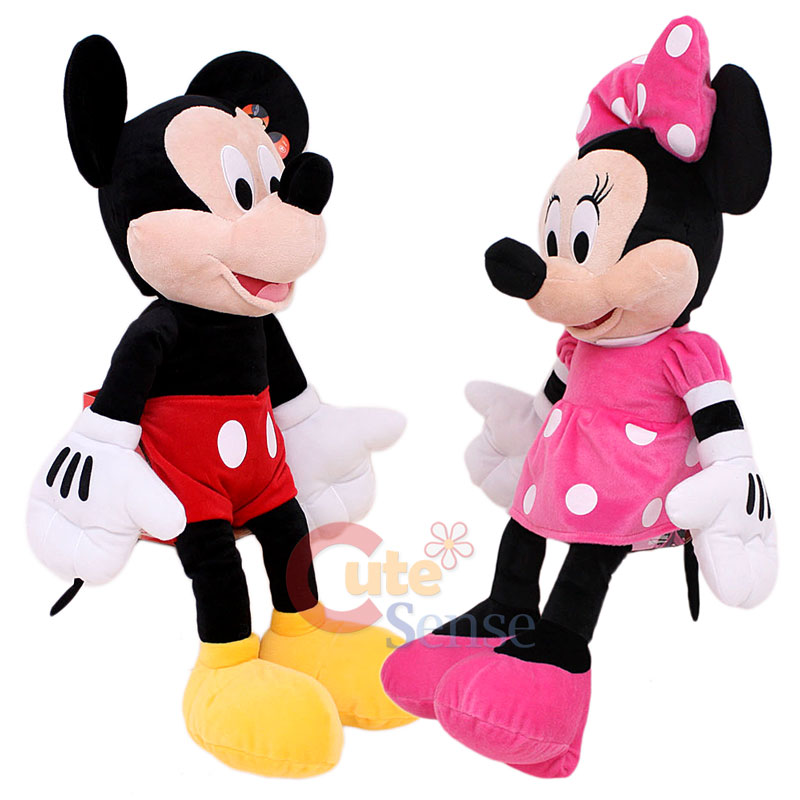Mickey: (57, 32, 339, 319)
